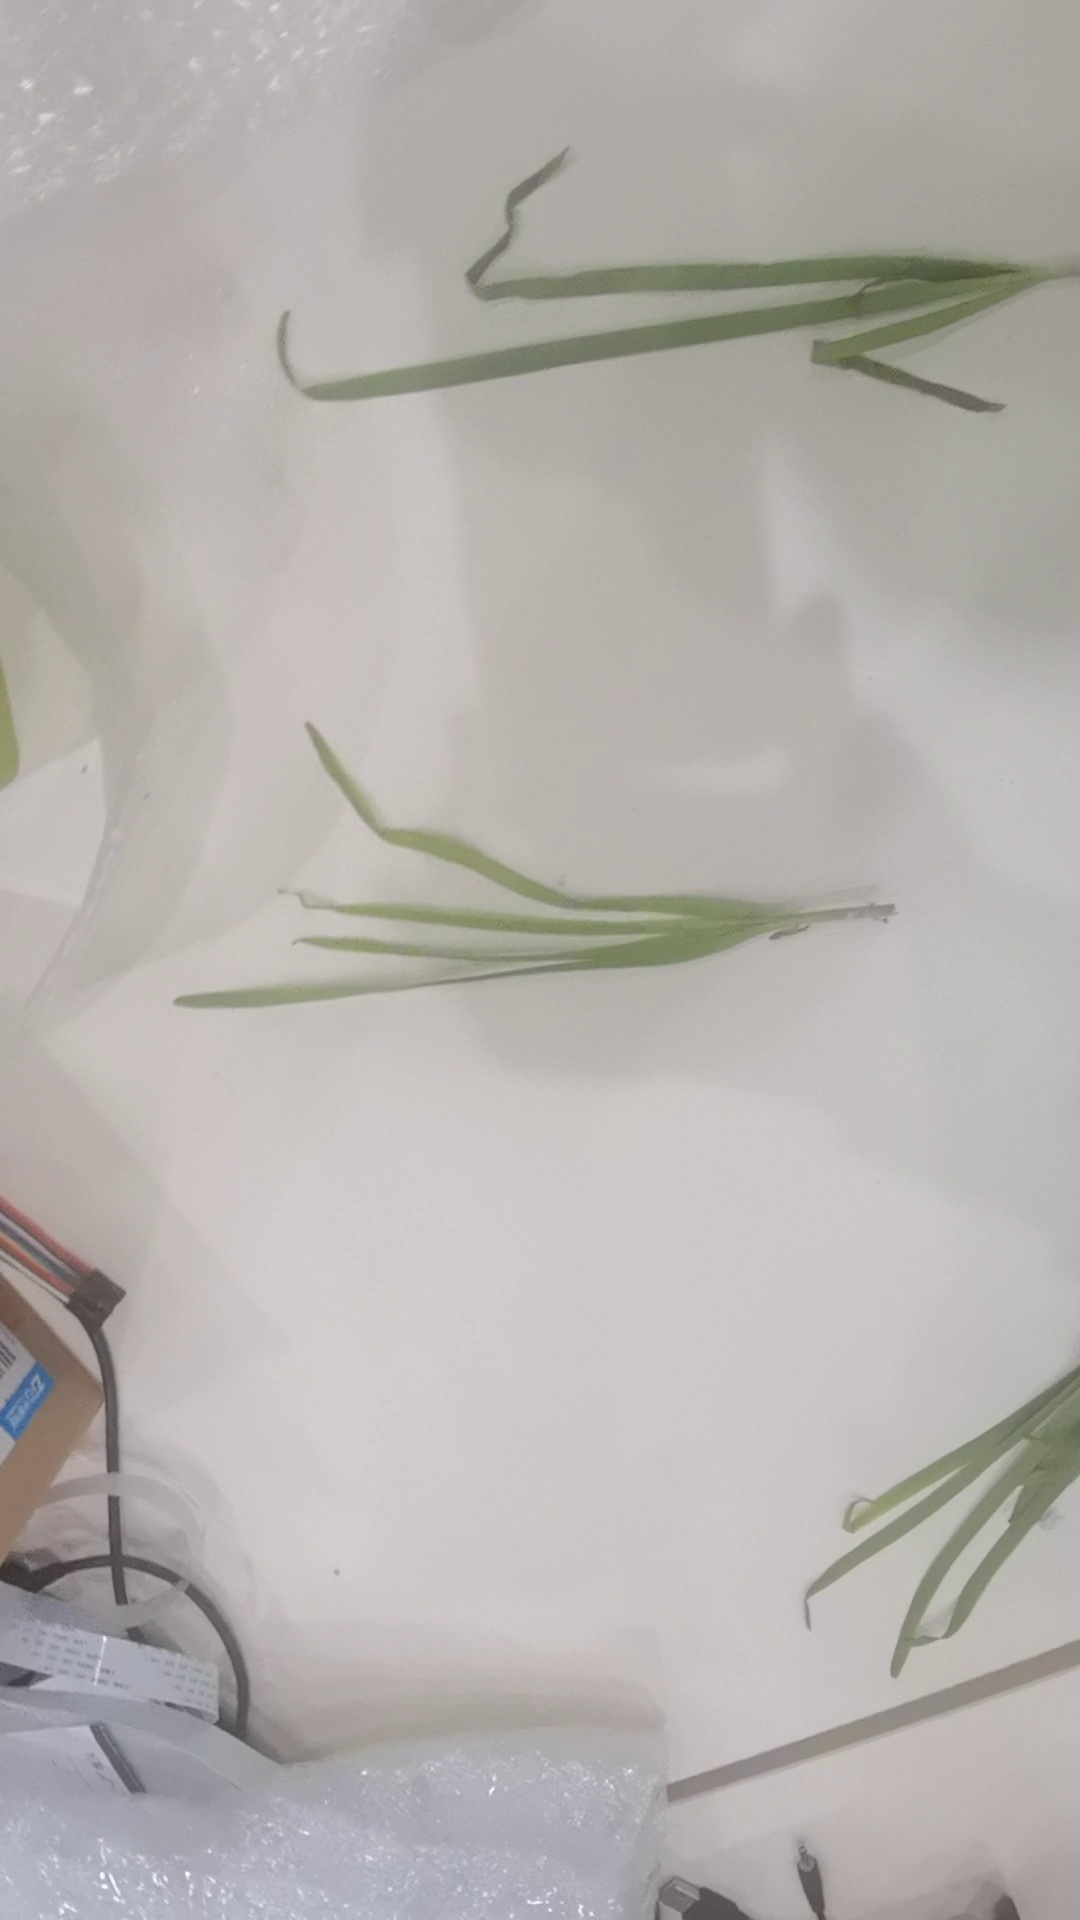chives: (253, 142, 1080, 435), (169, 717, 898, 1033)
